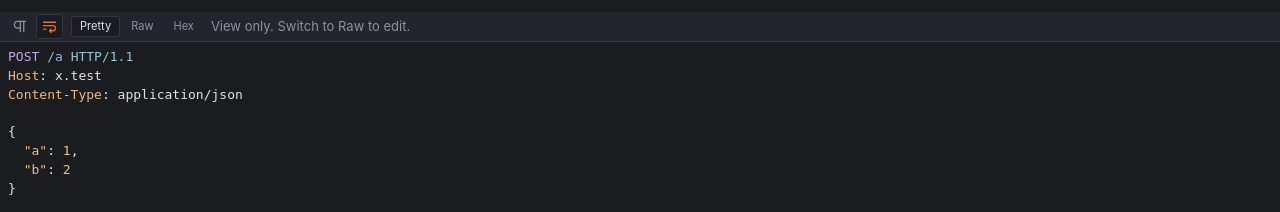
Test: views › shows a hex dump
The width and height of the screenshot is (1280, 212).
Click the tab "Hex". click: click(184, 27)
box: [164,16,203,37]
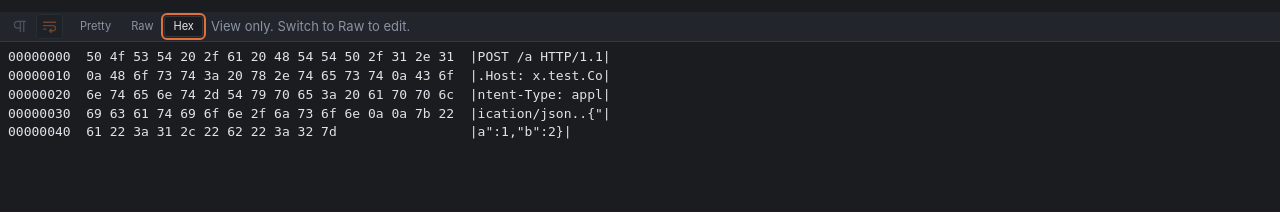
expect the text "50 4f 53 54" is shown: met, box [8,49,611,139]
